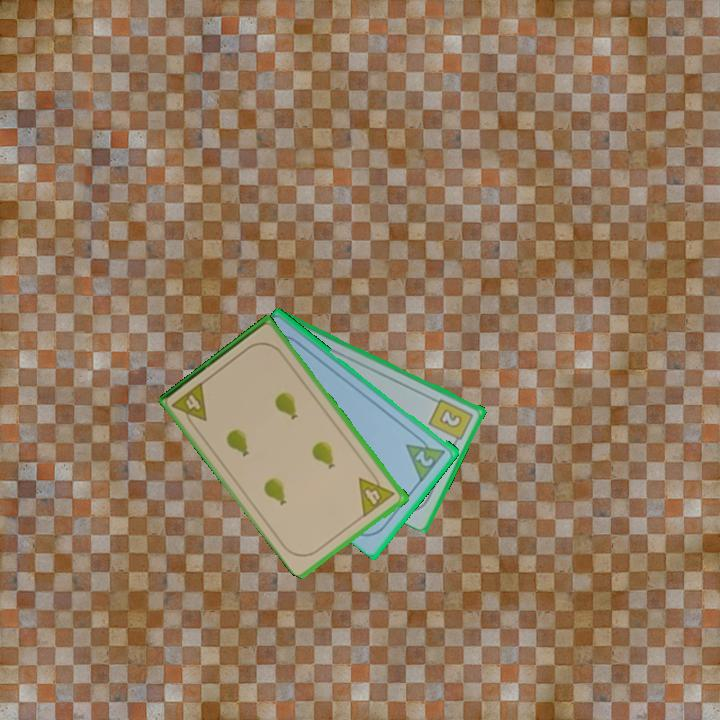2b: (426, 395, 476, 447)
2p: (412, 447, 437, 469)
4p: (355, 467, 399, 519), (169, 378, 210, 432)
